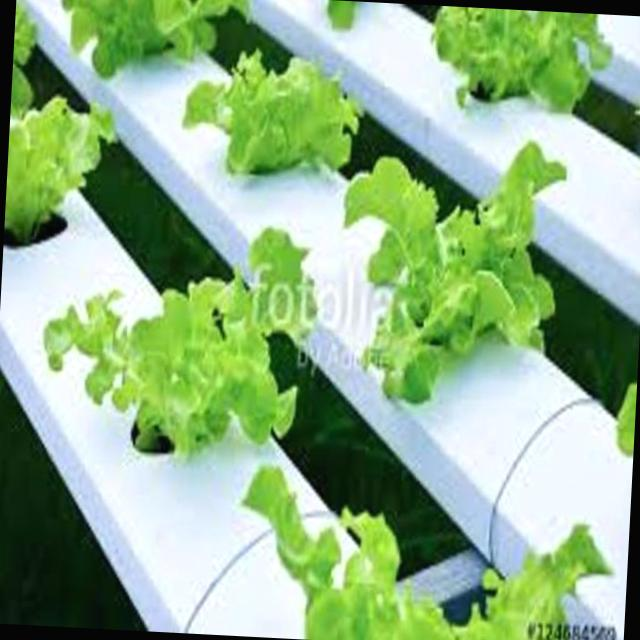Lettuce-Ready-to-Harvest: (45, 228, 317, 455), (345, 142, 566, 403), (245, 467, 571, 640), (4, 6, 113, 244), (184, 53, 360, 174), (436, 7, 606, 110), (63, 0, 245, 77)
